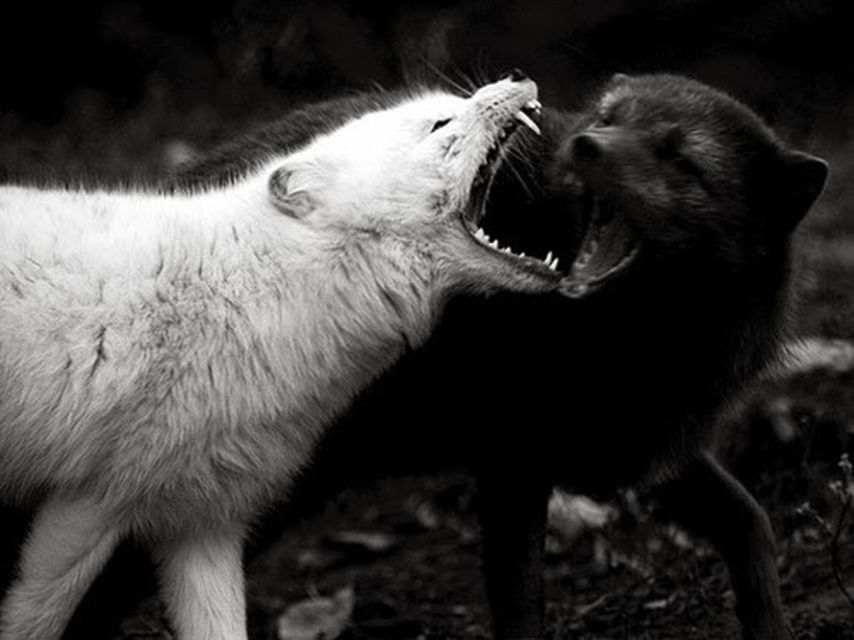Lobo: (9, 67, 551, 515), (561, 52, 819, 368)
